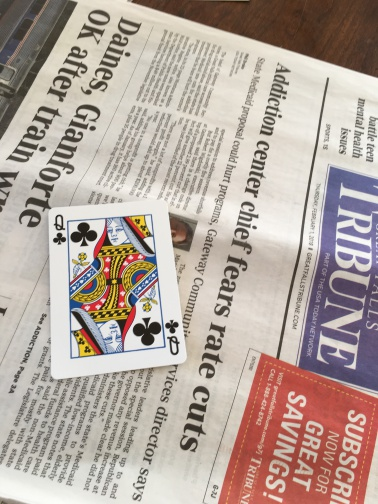queen: (46, 197, 188, 378)
